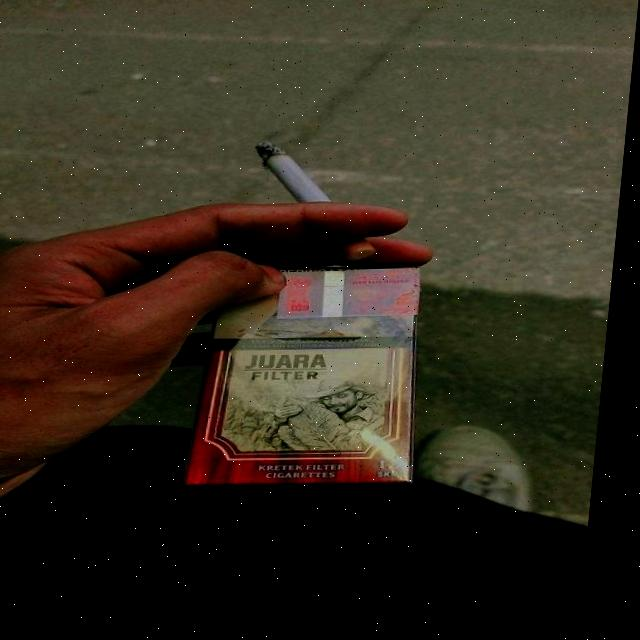cigarette: (253, 140, 390, 263)
